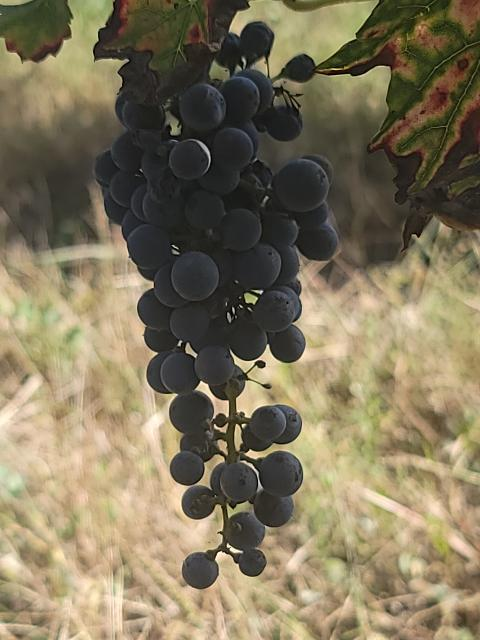grapes: (95, 22, 339, 589)
